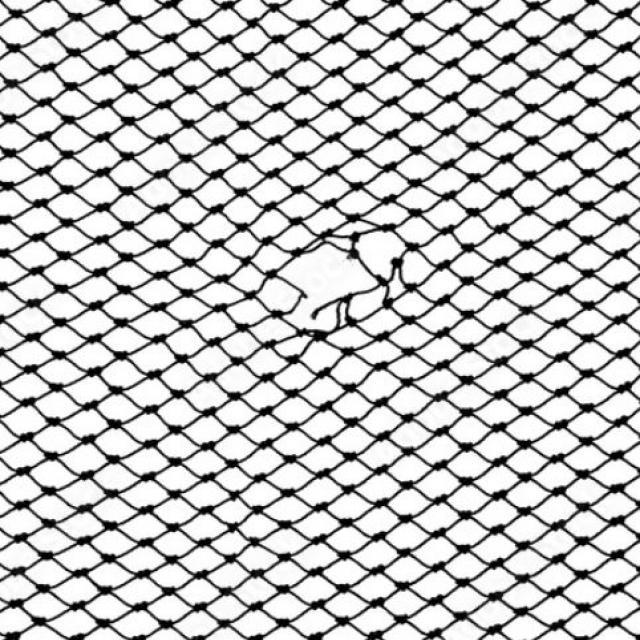fence line: (257, 195, 419, 355)
